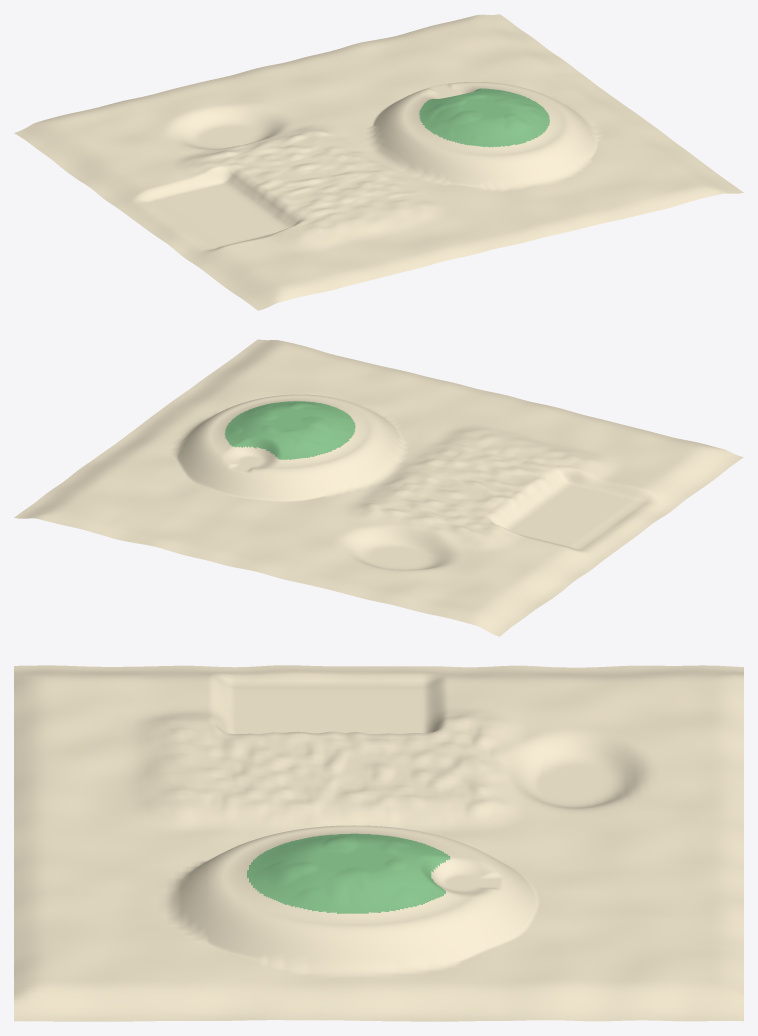
The model's file is pirate_terrain.fbx.
3 renders of one model, top to bottom at view 1: azimuth 30°, elevation 25°; view 2: azimuth 150°, elevation 25°; view 3: azimuth 270°, elevation 25°, orthographic. The views are drawn at different scales.
Visible parts, largest first — view 1: Seabed__SeaSand, Island__Jungle, Beach__SeaSand; view 2: Seabed__SeaSand, Island__Jungle, Beach__SeaSand; view 3: Seabed__SeaSand, Island__Jungle, Beach__SeaSand.
Part boxes in pixels (x1,y1,x2,y2): Seabed__SeaSand: (14, 14, 743, 310); Island__Jungle: (419, 88, 549, 147); Beach__SeaSand: (411, 86, 557, 152); Seabed__SeaSand: (14, 339, 743, 636); Island__Jungle: (224, 401, 355, 459); Beach__SeaSand: (217, 399, 363, 464); Seabed__SeaSand: (14, 665, 743, 1021); Island__Jungle: (247, 833, 450, 913); Beach__SeaSand: (234, 831, 462, 920).
Bounding box in the file's own units: 400 × 31.29 × 348.
